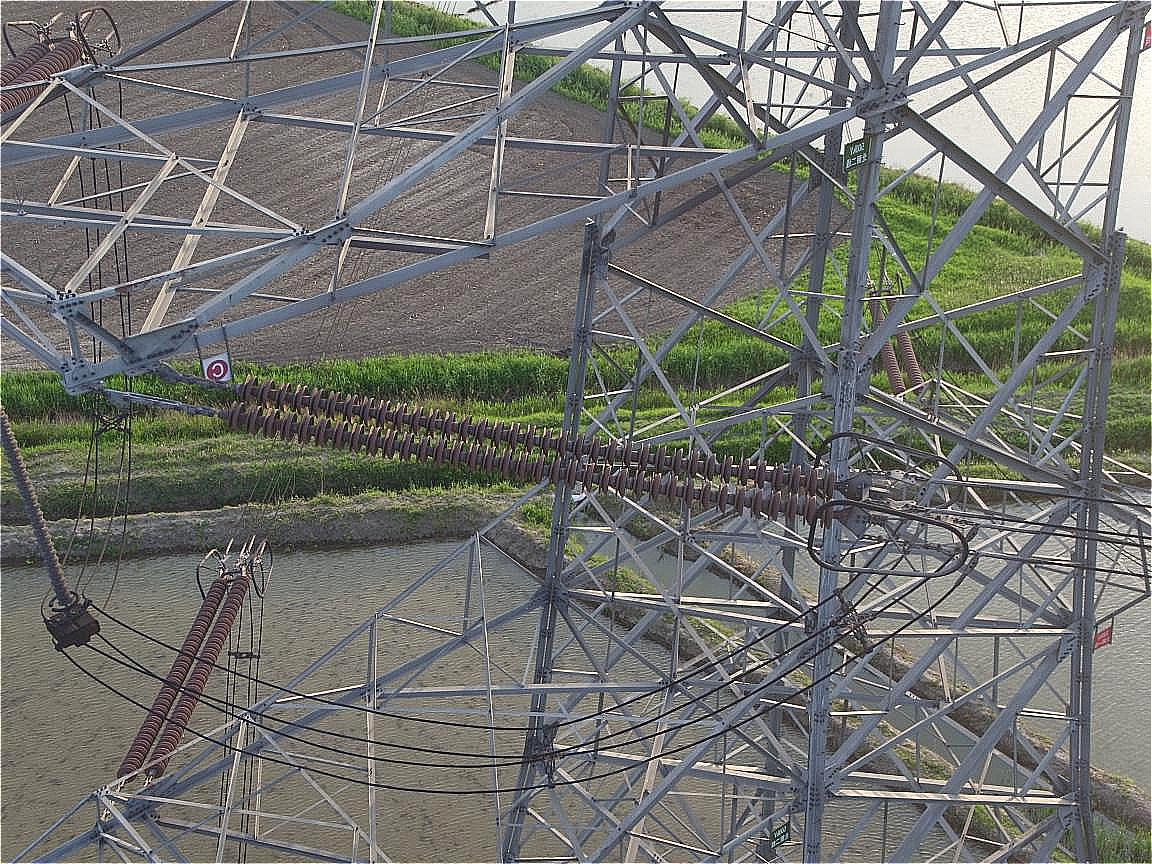insultor2: (189, 361, 881, 541)
